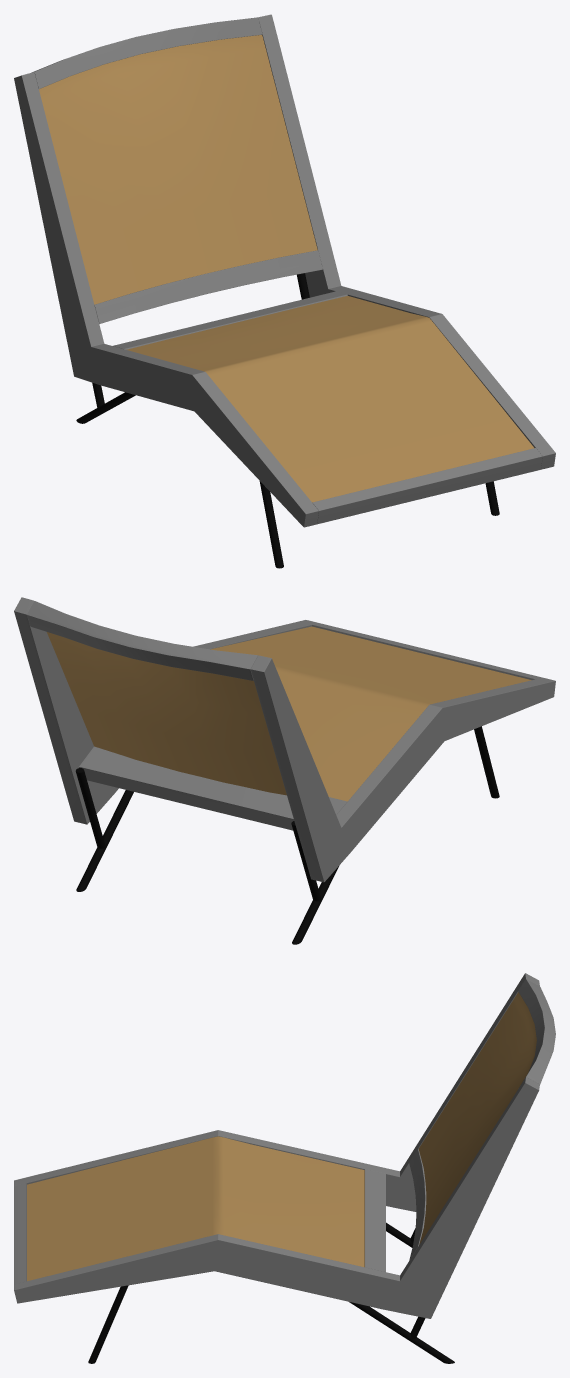
Rendered from MadRattanFBX.fbx.
3 renders of one model, top to bottom at view 1: azimuth 30°, elevation 25°; view 2: azimuth 150°, elevation 25°; view 3: azimuth 270°, elevation 25°, orthographic. The views are drawn at different scales.
Visible parts, largest first — view 1: Rotang, Wood, Leg; view 2: Rotang, Wood, Leg; view 3: Rotang, Wood, Leg.
Part boxes in pixels (bbox=[...]): Rotang: bbox=[39, 35, 534, 502]; Wood: bbox=[14, 14, 555, 527]; Leg: bbox=[76, 273, 499, 568]; Rotang: bbox=[47, 626, 531, 801]; Wood: bbox=[14, 597, 555, 882]; Leg: bbox=[75, 726, 499, 944]; Rotang: bbox=[27, 992, 536, 1281]; Wood: bbox=[14, 973, 555, 1318]; Leg: bbox=[88, 1222, 454, 1363].
Bounding box in the file's own units: 600 × 732 × 1251.
